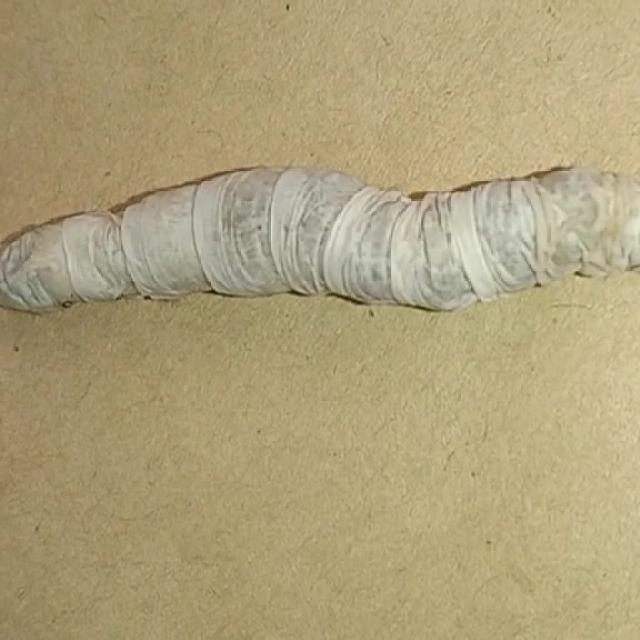Grasserie: (3, 109, 640, 329)
